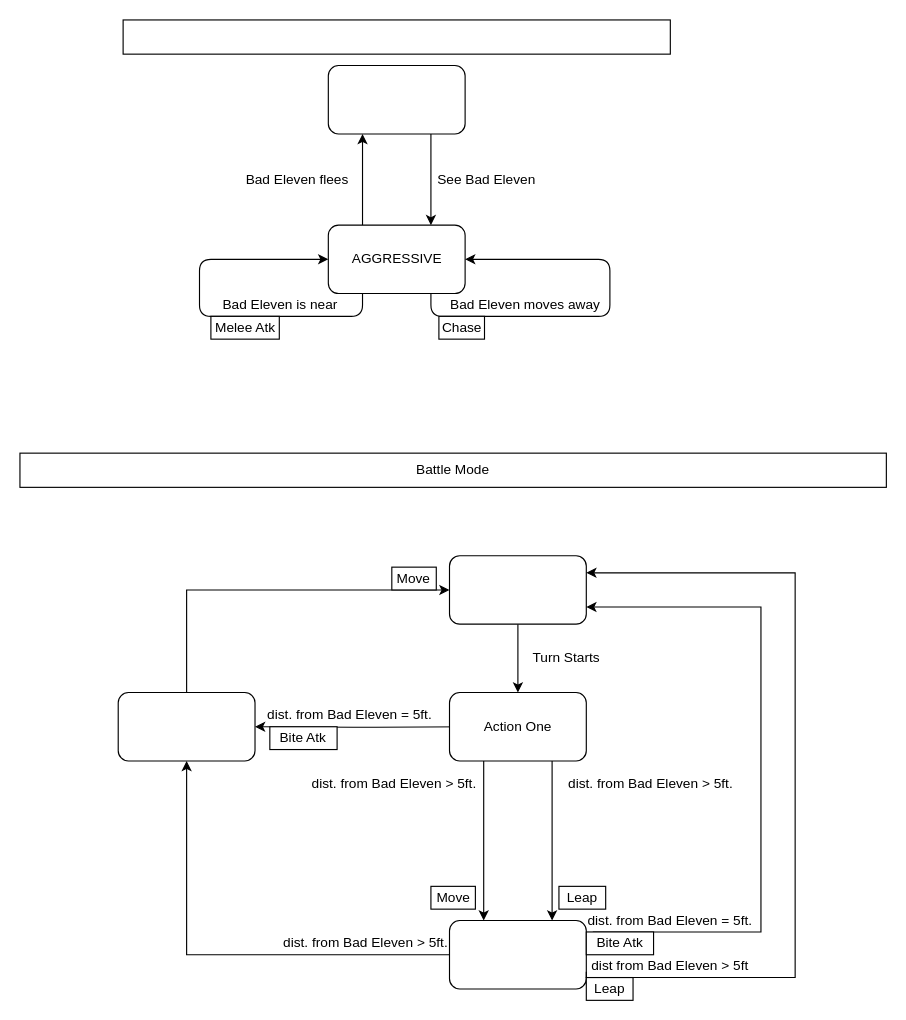
Image size: 906x1020. Some labels were removed from this diagram. Here are the shapes that lost their labels. From the top down, the box of each, then its label:
(122, 19, 670, 54): Free Roaming
(327, 64, 465, 134): IDLE
(448, 555, 586, 624): Wait Turn
(117, 691, 255, 761): Moving Action
(448, 919, 586, 989): Action Two
